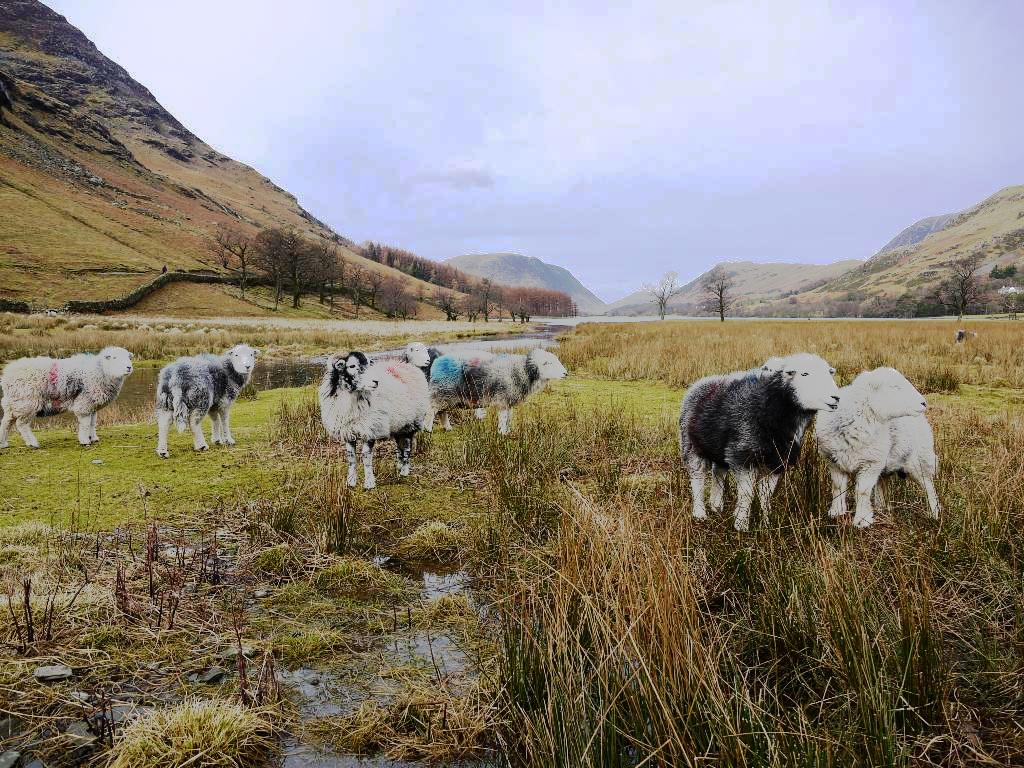Sheep: (665, 355, 843, 526), (812, 353, 954, 529), (308, 345, 436, 490), (2, 340, 139, 454), (144, 334, 262, 466), (429, 343, 572, 435), (335, 335, 433, 389)
